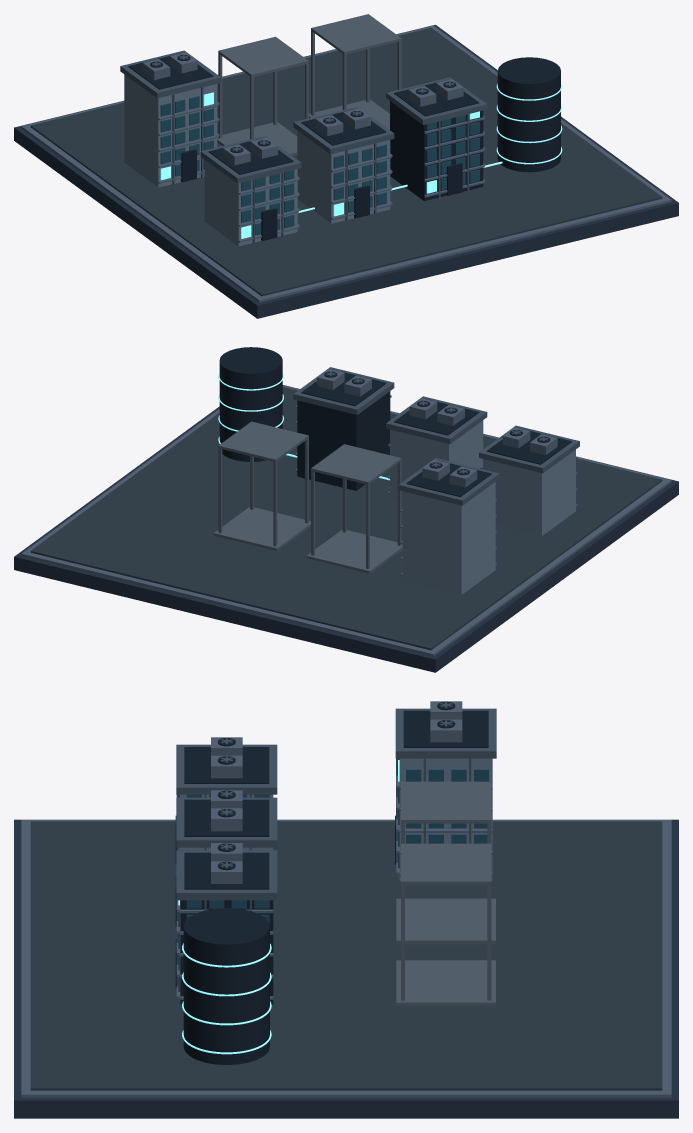
File: detail-cnesdata.glb
3 renders of one model, top to bottom at view 1: azimuth 30°, elevation 25°; view 2: azimuth 150°, elevation 25°; view 3: azimuth 270°, elevation 25°, orthographic. The views are drawn at different scales.
Visible parts, largest first — view 1: detail-cnesdata, building (×4), tenant-isolation, parquet-to-gold, kubernetes; view 2: detail-cnesdata, building (×4), kubernetes, parquet-to-gold, tenant-isolation; view 3: detail-cnesdata, building (×4), tenant-isolation, kubernetes, parquet-to-gold.
Part boxes in pixels (<box>): detail-cnesdata: <box>14,24,678,318</box>; building (×4): <box>120,50,487,246</box>; tenant-isolation: <box>496,57,562,172</box>; parquet-to-gold: <box>217,36,308,155</box>; kubernetes: <box>309,14,401,129</box>; detail-cnesdata: <box>14,385,678,672</box>; building (×4): <box>293,367,579,594</box>; kubernetes: <box>213,421,310,550</box>; parquet-to-gold: <box>306,444,402,573</box>; tenant-isolation: <box>218,347,283,461</box>; detail-cnesdata: <box>14,819,678,1118</box>; building (×4): <box>175,701,496,1004</box>; tenant-isolation: <box>182,908,271,1064</box>; kubernetes: <box>396,843,495,1005</box>; parquet-to-gold: <box>396,781,495,944</box>.
Size of the model in its own units: 10 by 2.84 by 10.
